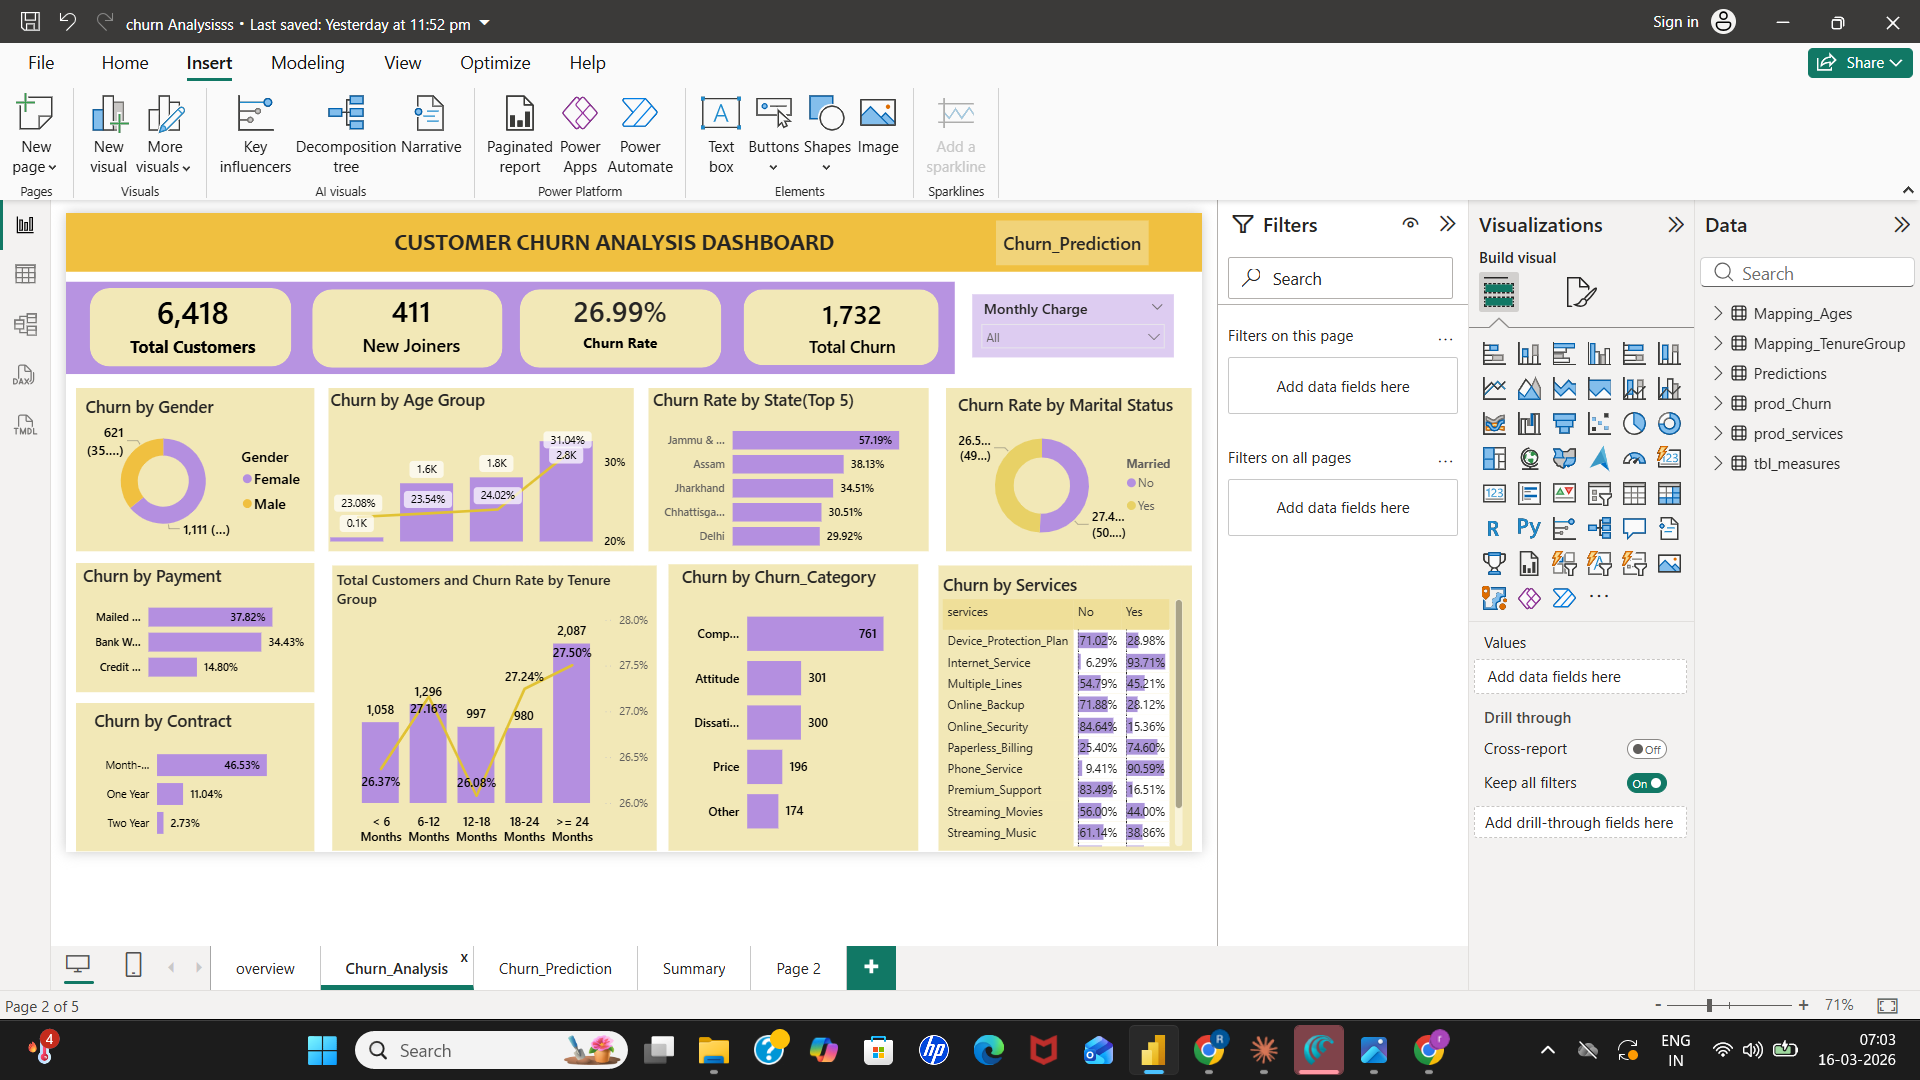

The page's visual inventory and layout, read from the dashboard file:
{"tool":"powerbi","page":{"name":"Churn_Analysis","canvas":[1280,720],"ordinal":1},"visuals":[{"type":"shape","box":[991.4,197.1,277.1,184.3],"z":0},{"type":"shape","box":[982.9,397.1,285.7,321.4],"z":1000},{"type":"shape","box":[678.6,395.7,281.4,322.9],"z":2000},{"type":"shape","box":[11.4,551.4,268.6,167.1],"z":3000},{"type":"shape","box":[11.4,394.3,268.6,145.7],"z":4000},{"type":"shape","box":[0,77.1,1001.4,104.3],"z":5000},{"type":"shape","box":[655.7,197.1,315.7,184.3],"z":6000},{"type":"shape","box":[295.7,197.1,344.3,184.3],"z":7000},{"type":"clusteredBarChart","title":"Churn  by Contract","fields":{"Category":["prod_Churn.Contract"],"Y":["tbl_measures.Churn Rate"]},"box":[27.1,558.6,250,160],"z":8000},{"type":"shape","box":[11.4,197.1,268.6,184.3],"z":9000},{"type":"donutChart","title":"Churn by Gender","fields":{"Category":["prod_Churn.Gender"],"Y":["tbl_measures.Total Churn"]},"box":[17.1,205.7,262.9,168.6],"z":10000},{"type":"lineStackedColumnComboChart","title":"Churn by Age Group","fields":{"Category":["Mapping_Ages.Age Group"],"Y":["tbl_measures.Total Customers"],"Y2":["tbl_measures.Churn Rate"]},"box":[292.9,197.1,342.9,187.1],"z":11000},{"type":"clusteredBarChart","title":"Churn Rate by State(Top 5)","fields":{"Category":["prod_Churn.State"],"Y":["tbl_measures.Churn Rate"]},"box":[655.7,197.1,327.1,194.3],"z":12000},{"type":"pivotTable","title":"Churn by Services","fields":{"Rows":["prod_services.services"],"Columns":["prod_services.Value"],"Values":["Sum(prod_services.Custom)"]},"box":[982.9,405.7,280,312.9],"z":13000},{"type":"shape","box":[300,397.1,365.7,321.4],"z":14000},{"type":"clusteredBarChart","title":"Churn by Payment","fields":{"Category":["prod_Churn.Payment_Method"],"Y":["tbl_measures.Churn Rate"]},"box":[14.3,395.7,262.9,144.3],"z":15000},{"type":"clusteredBarChart","title":" Churn by Churn_Category","fields":{"Y":["tbl_measures.Total Churn"],"Category":["prod_Churn.Churn_Category"]},"box":[688.6,397.1,262.9,322.9],"z":16000},{"type":"shape","box":[27.1,84.3,227.1,88.6],"z":17000},{"type":"card","fields":{"Values":["tbl_measures.Total Customers"]},"box":[50,81.4,184.3,84.3],"z":18000},{"type":"shape","box":[762.9,85.7,220,85.7],"z":19000},{"type":"shape","box":[277.1,85.7,214.3,88.6],"z":20000},{"type":"shape","box":[511.4,85.7,227.1,88.6],"z":21000},{"type":"card","fields":{"Values":["tbl_measures.Total Churn"]},"box":[770,78.6,231.4,95.7],"z":22000},{"type":"card","fields":{"Values":["tbl_measures.New Joiners"]},"box":[297.1,81.4,184.3,84.3],"z":23000},{"type":"card","fields":{"Values":["tbl_measures.Churn Rate"]},"box":[511.4,71.4,227.1,100],"z":24000},{"type":"slicer","fields":{"Values":["prod_services.Monthly Charge Status"]},"box":[1021.4,91.4,227.1,71.4],"z":25000},{"type":"donutChart","title":"Churn Rate by Marital Status","fields":{"Category":["prod_Churn.Married"],"Y":["tbl_measures.Churn Rate"]},"box":[1000,202.9,268.6,184.3],"z":26000},{"type":"lineStackedColumnComboChart","fields":{"Y":["tbl_measures.Total Customers"],"Category":["Mapping_TenureGroup. Tenure Group"],"Y2":["tbl_measures.Churn Rate"]},"box":[300,401.4,365.7,318.6],"z":27000},{"type":"shape","box":[0,0,1280.3,66.2],"z":28000},{"type":"textbox","box":[0,11.3,870.4,45.1],"z":29000},{"type":"actionButton","box":[1047.9,8.5,171.8,50.7],"z":29001}]}

Visuals, with their boxes on the page's 1280x720 design canvas (x1, y1, x2, y2). These are canvas units, not pixel positions in the 1920x1080 screenshot, which may show the page scaled, cropped or inside an application window:
shape: rect(991, 197, 1268, 381)
shape: rect(983, 397, 1269, 718)
shape: rect(679, 396, 960, 719)
shape: rect(11, 551, 280, 718)
shape: rect(11, 394, 280, 540)
shape: rect(0, 77, 1001, 181)
shape: rect(656, 197, 971, 381)
shape: rect(296, 197, 640, 381)
"Churn  by Contract" clusteredBarChart: rect(27, 559, 277, 719)
shape: rect(11, 197, 280, 381)
"Churn by Gender" donutChart: rect(17, 206, 280, 374)
"Churn by Age Group" lineStackedColumnComboChart: rect(293, 197, 636, 384)
"Churn Rate by State(Top 5)" clusteredBarChart: rect(656, 197, 983, 391)
"Churn by Services" pivotTable: rect(983, 406, 1263, 719)
shape: rect(300, 397, 666, 718)
"Churn by Payment" clusteredBarChart: rect(14, 396, 277, 540)
" Churn by Churn_Category" clusteredBarChart: rect(689, 397, 952, 720)
shape: rect(27, 84, 254, 173)
card - tbl_measures.Total Customers: rect(50, 81, 234, 166)
shape: rect(763, 86, 983, 171)
shape: rect(277, 86, 491, 174)
shape: rect(511, 86, 738, 174)
card - tbl_measures.Total Churn: rect(770, 79, 1001, 174)
card - tbl_measures.New Joiners: rect(297, 81, 481, 166)
card - tbl_measures.Churn Rate: rect(511, 71, 738, 171)
slicer - prod_services.Monthly Charge Status: rect(1021, 91, 1248, 163)
"Churn Rate by Marital Status" donutChart: rect(1000, 203, 1269, 387)
lineStackedColumnComboChart - tbl_measures.Total Customers x Mapping_TenureGroup. Tenure Group: rect(300, 401, 666, 720)
shape: rect(0, 0, 1280, 66)
textbox: rect(0, 11, 870, 56)
actionButton: rect(1048, 8, 1220, 59)
